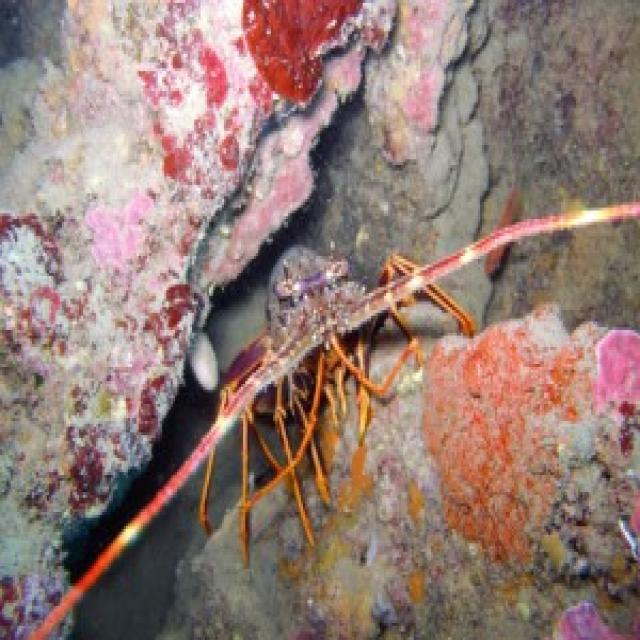lobsters: (58, 97, 614, 594)
